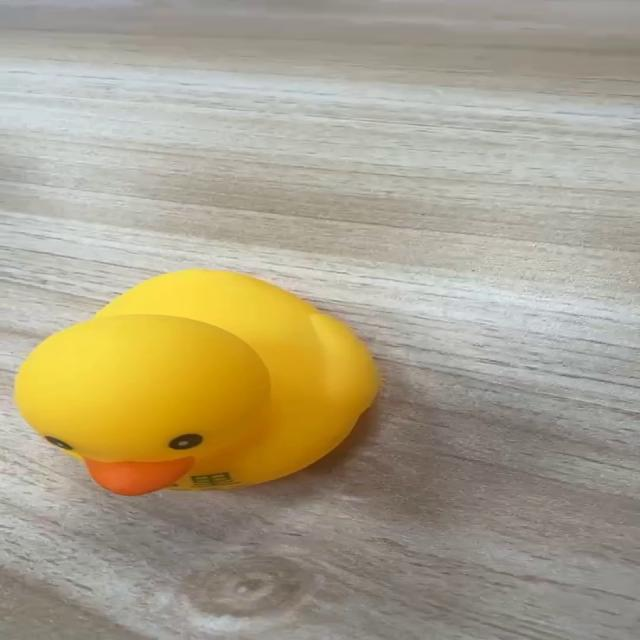yellow_duck: (12, 267, 379, 496)
